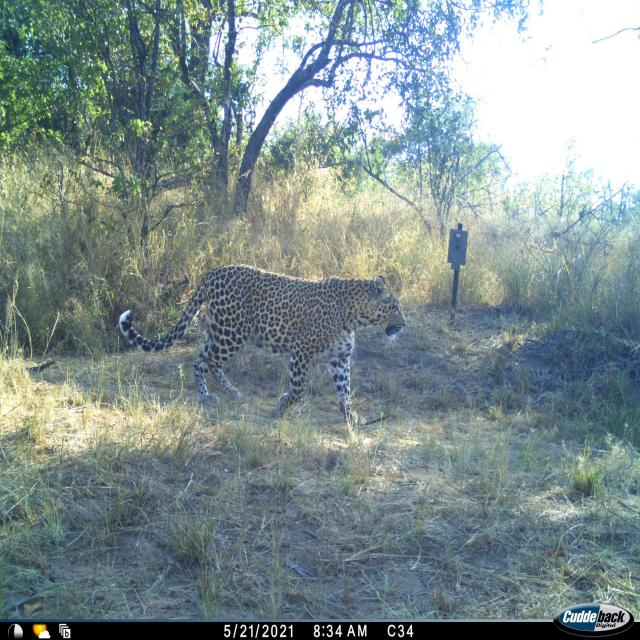Leopard: (112, 263, 411, 426)
